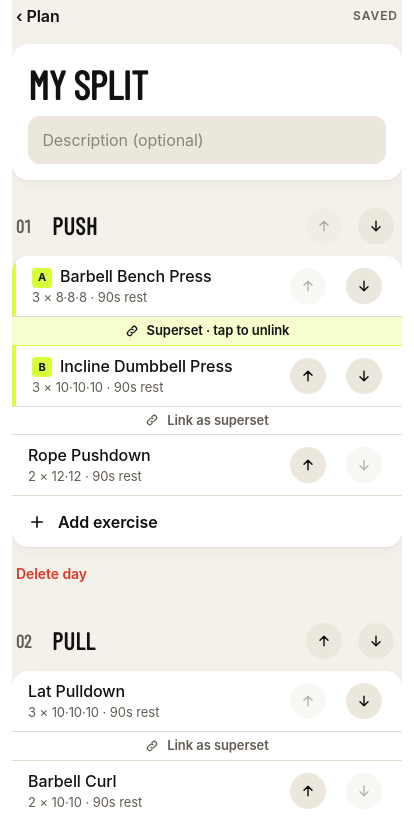
Scenario: plan editor › moving an exercise out of a superset takes it apart cleanly (no stray group)
Click the 2nd button named "Move down": (364, 376) [342,354,386,398]
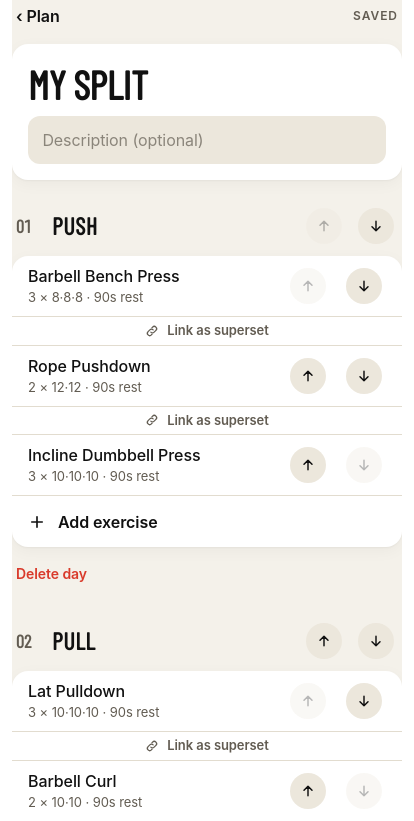
Expected: the text "Superset · tap to unlink" is gone
